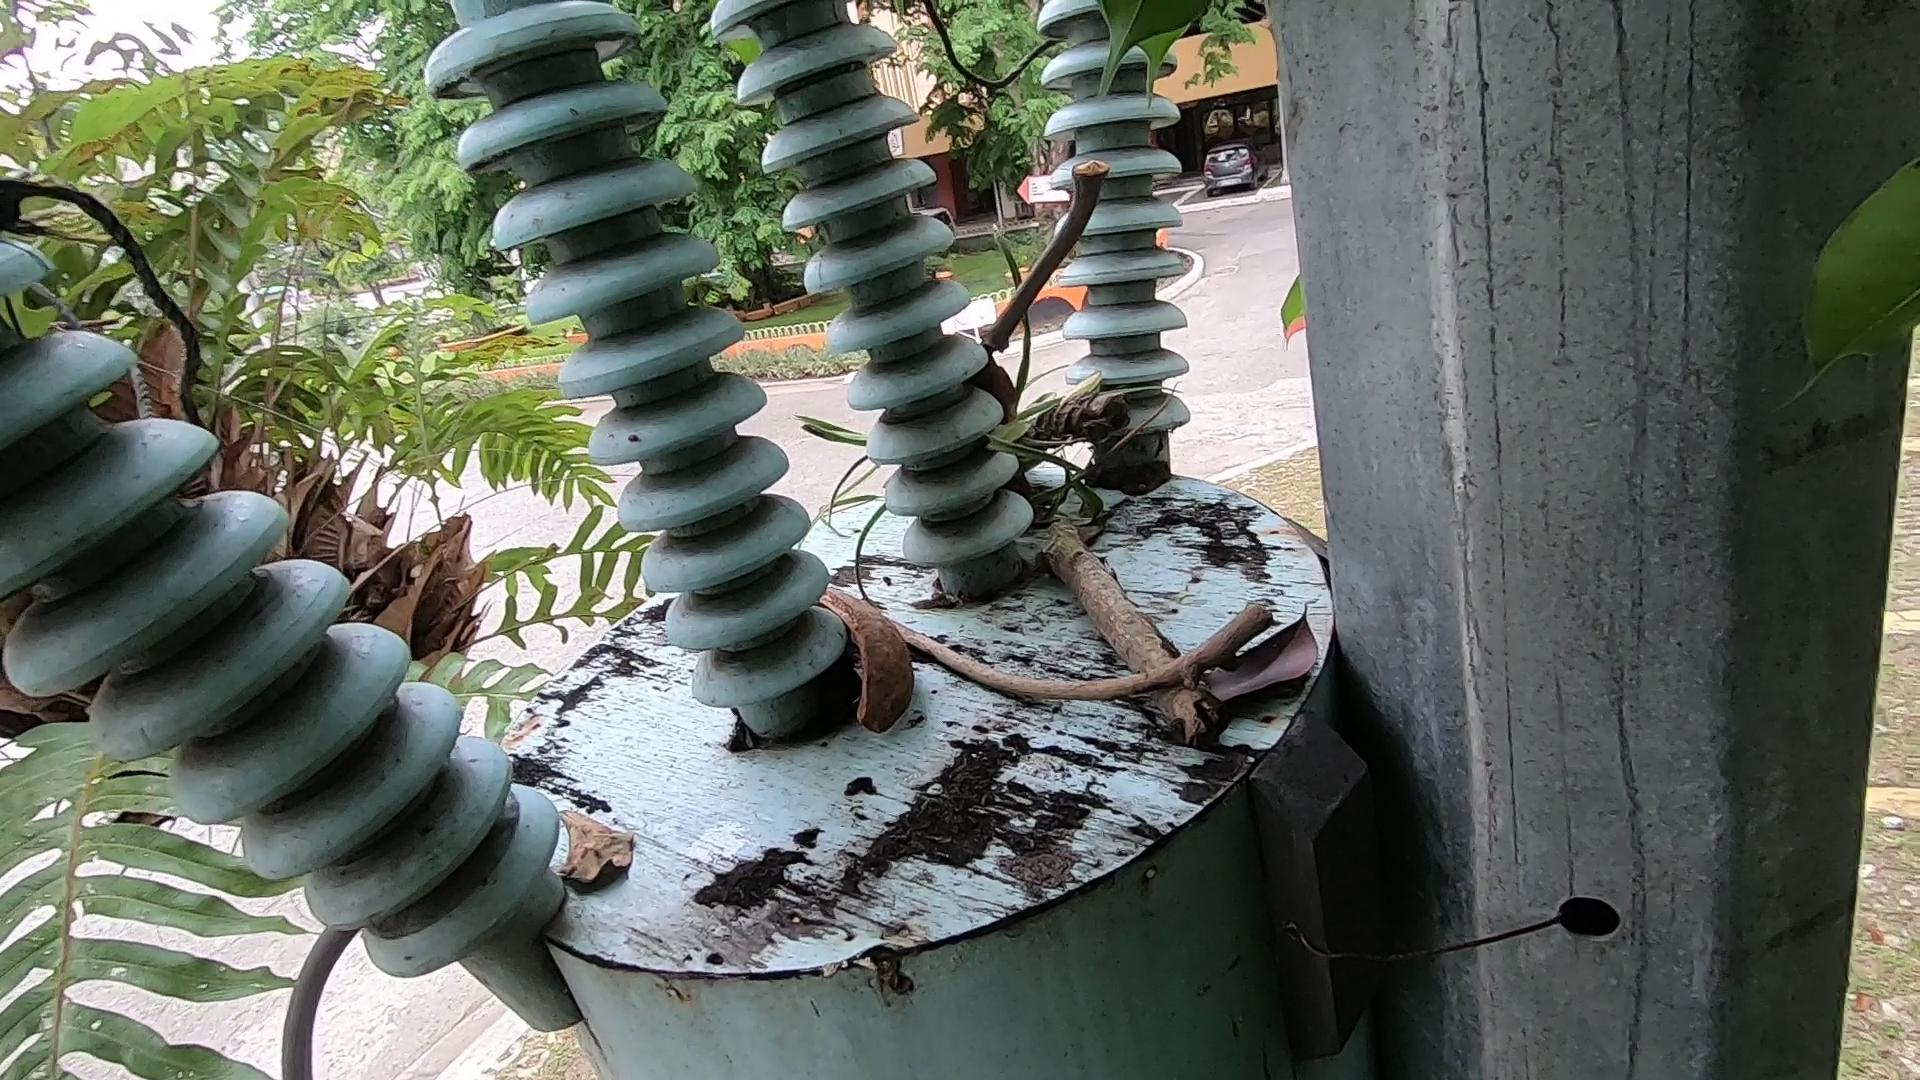branch with leaves: (971, 348, 1324, 894)
leaf: (1208, 555, 1451, 728), (477, 757, 673, 928)
mahogany fruit: (951, 336, 1044, 597), (804, 551, 906, 786)
tree branch: (833, 585, 1303, 760), (1004, 76, 1182, 448)
